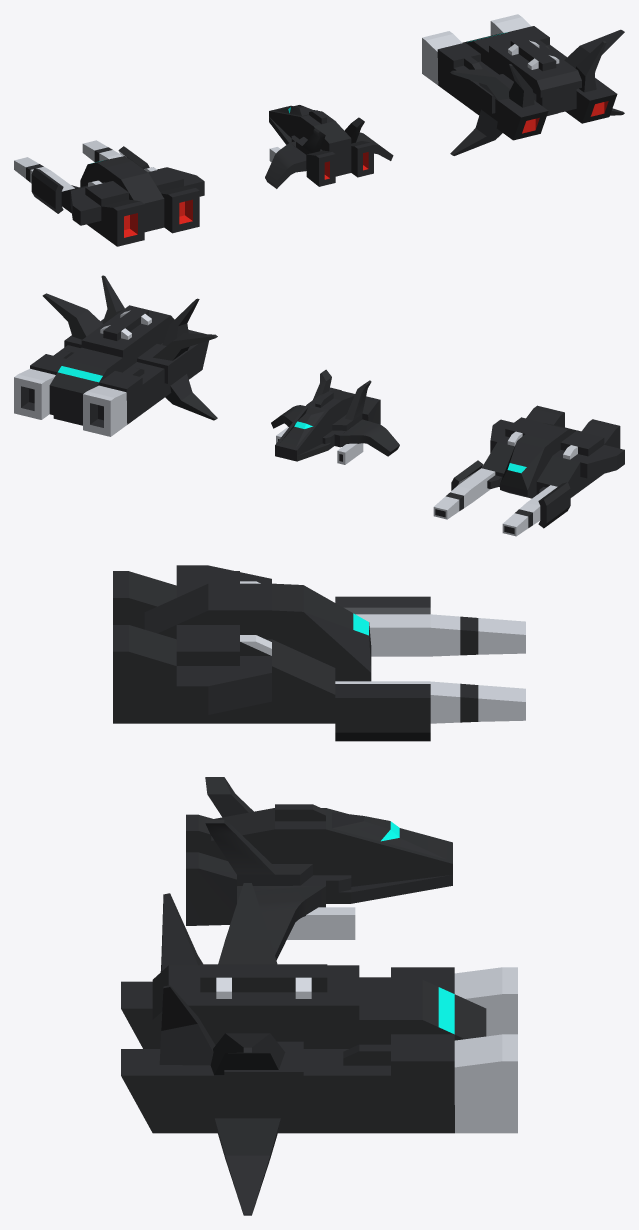
File: ships_.fbx
3 views of the same model, one above another, from view 1: azimuth 30°, elevation 25°; view 2: azimuth 150°, elevation 25°; view 3: azimuth 270°, elevation 25° (orthographic). The views are drawn at different scales.
Visible parts, largest first — view 1: ship_big, ship_mid, ship_smal; view 2: ship_big, ship_mid, ship_smal; view 3: ship_big, ship_mid, ship_smal.
Boxes of the visible parts, x1,y1,x2,y2 form: ship_big: [422, 14, 624, 155]; ship_mid: [14, 140, 204, 246]; ship_smal: [265, 105, 393, 188]; ship_big: [14, 275, 217, 436]; ship_mid: [433, 405, 624, 536]; ship_smal: [271, 369, 399, 464]; ship_big: [121, 883, 517, 1215]; ship_mid: [113, 565, 525, 741]; ship_smal: [186, 777, 452, 960].
Bounding box in the file's own units: 8.16 × 1.34 × 2.6.
